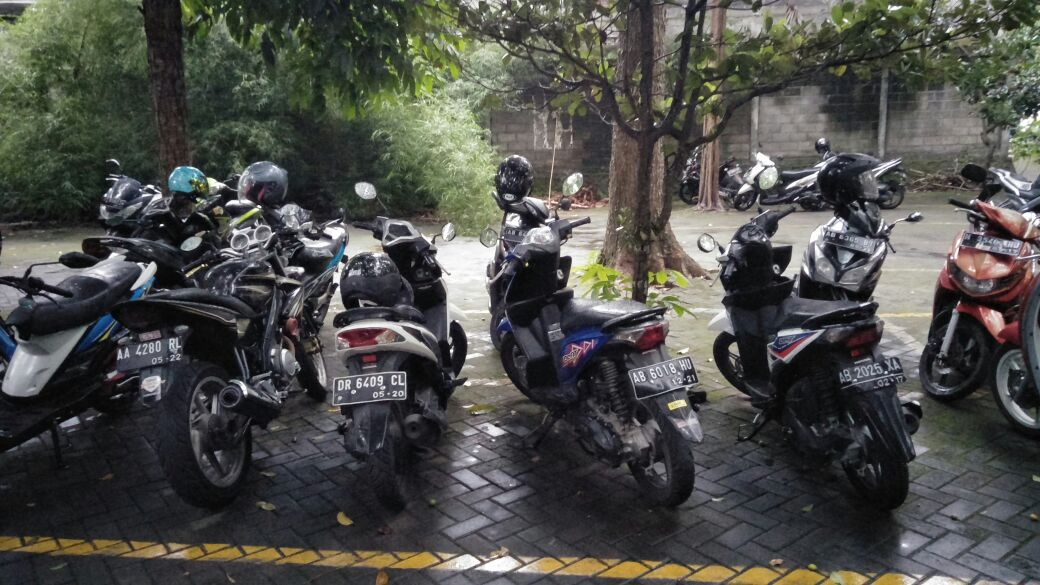plate: (630, 355, 699, 395), (332, 372, 407, 402), (839, 356, 905, 389), (116, 337, 184, 367)
